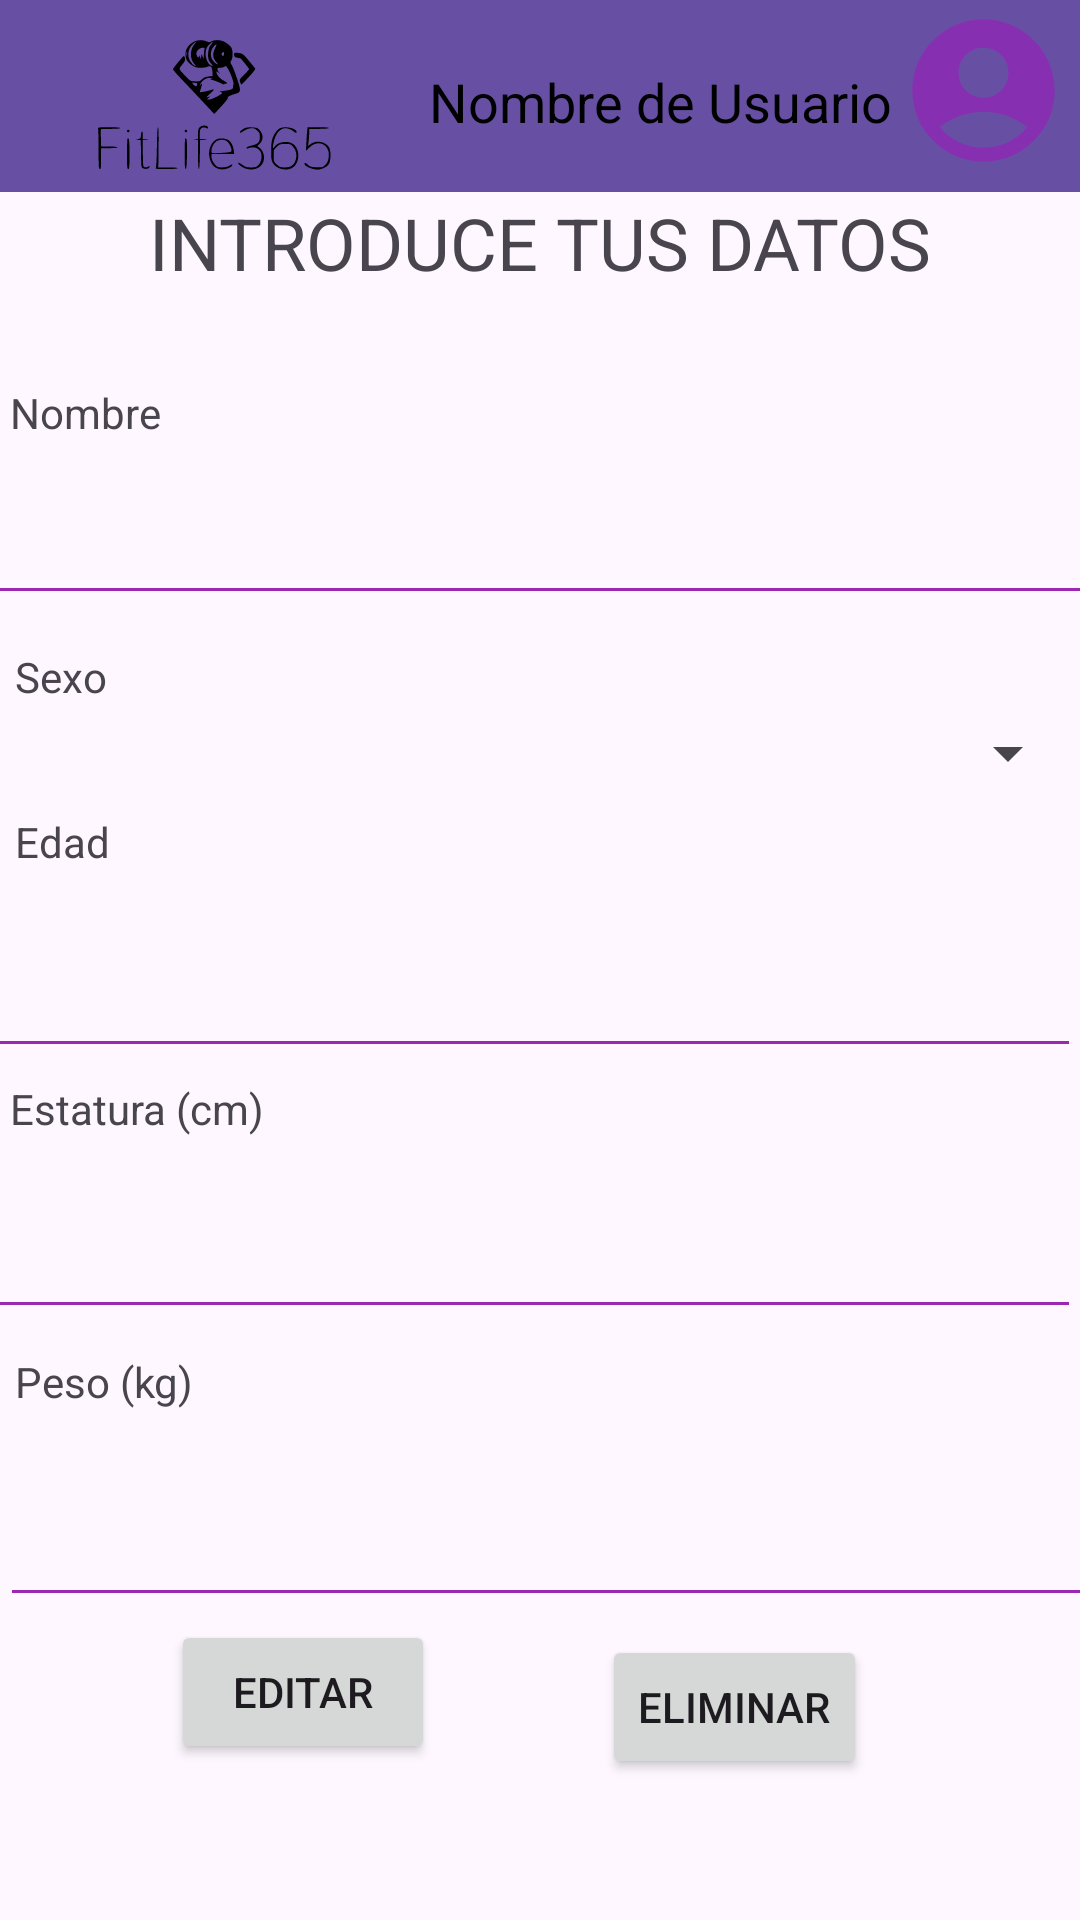

Point at icon controls on the screen. Image size 1080px×1920px, points as (x=x, y=y).
perfil: (x=983, y=90)
